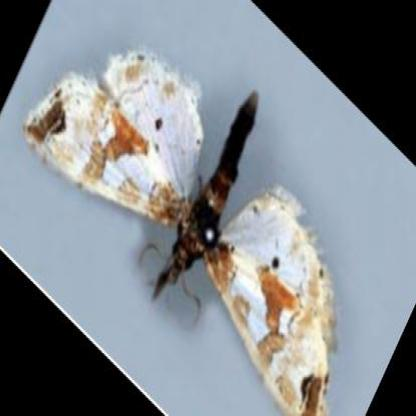leucinodes: (26, 47, 335, 409)
